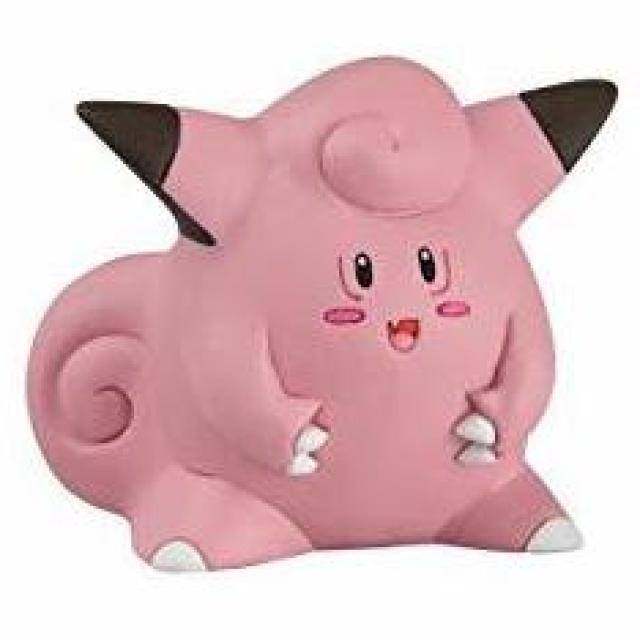Clefairy: (19, 59, 628, 592)
